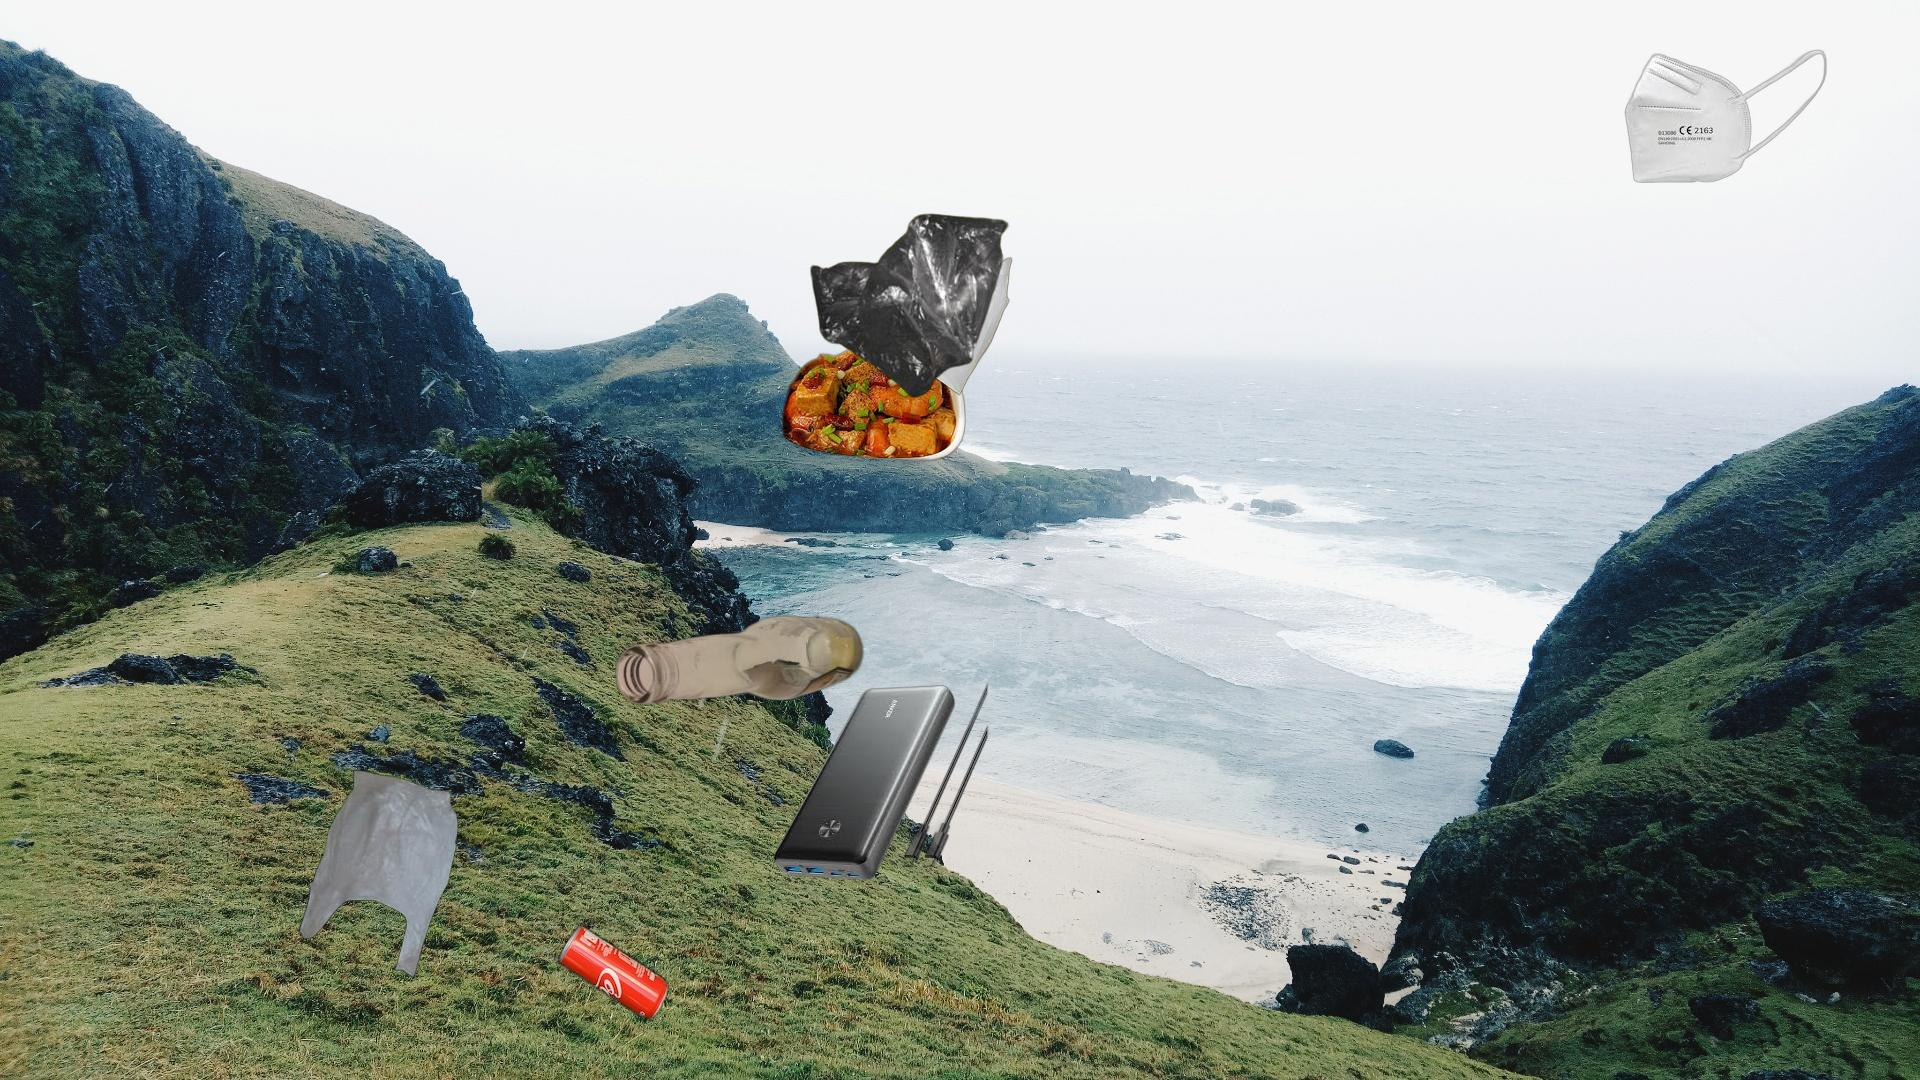battery: (771, 682, 992, 884)
biological: (779, 338, 967, 498)
glass: (611, 615, 866, 708)
metal-cans: (555, 920, 674, 1025)
plastic-bag: (808, 211, 1015, 400), (298, 767, 462, 980)
trash: (1622, 47, 1829, 185)
